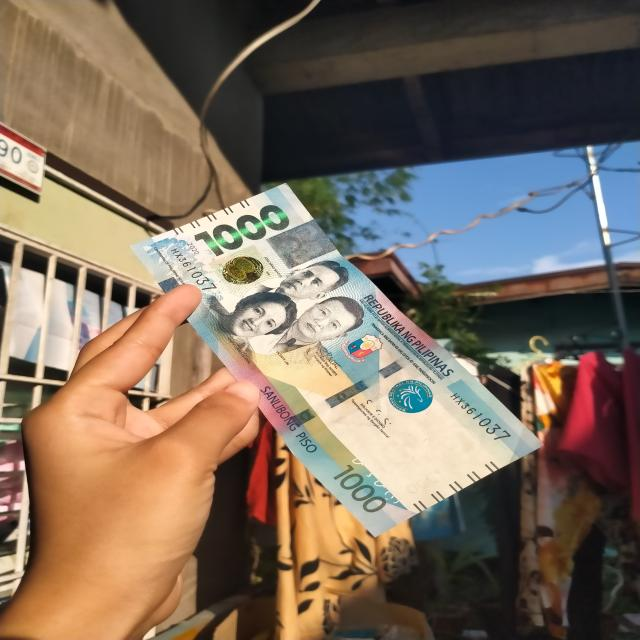concealed_value: (265, 219, 336, 270)
optically_variable_device: (207, 244, 278, 295)
security_thread: (273, 339, 440, 437)
see_through_mark: (344, 452, 410, 512)
serial_number: (443, 387, 516, 443), (168, 245, 221, 296)
value: (187, 199, 298, 261)
value_watermark: (402, 466, 449, 498)
watermark: (346, 388, 499, 497)
